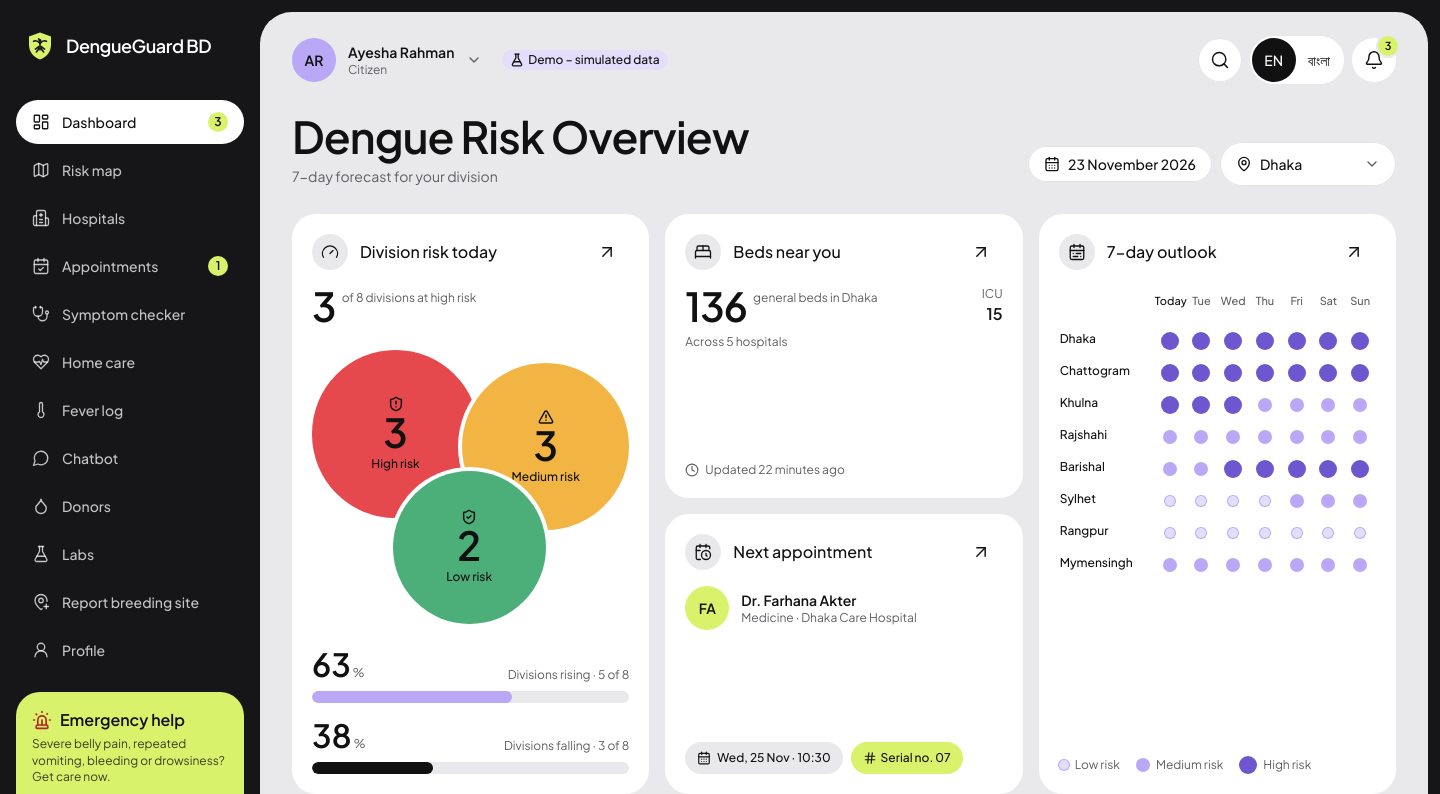
Test: Dashboard (/) › switches every label to Bangla with Bangla digits, without reload
Expected: the text "general beds in Dhaka" is shown, [753,290,878,305]
Click the button "বাংলা": (1319, 60) [1296,38,1342,82]
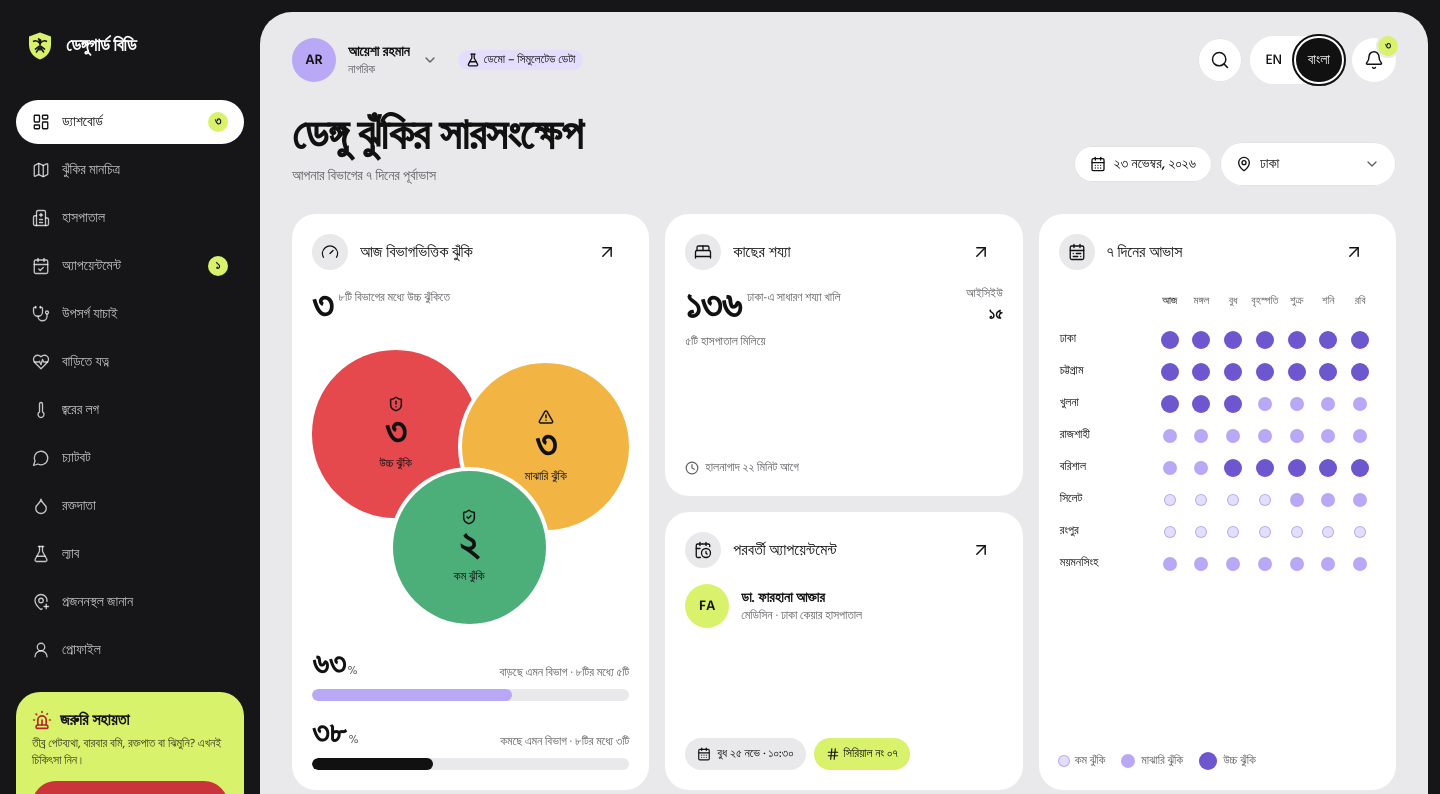
Expected: the heading "ডেঙ্গু ঝুঁকির সারসংক্ষেপ" is shown, [292,112,582,160]
Expected: the heading "কাছের শয্যা" is shown, [733,239,791,265]
Expected: the text "ডা. ফারহানা আক্তার" is shown, [741,586,825,609]
